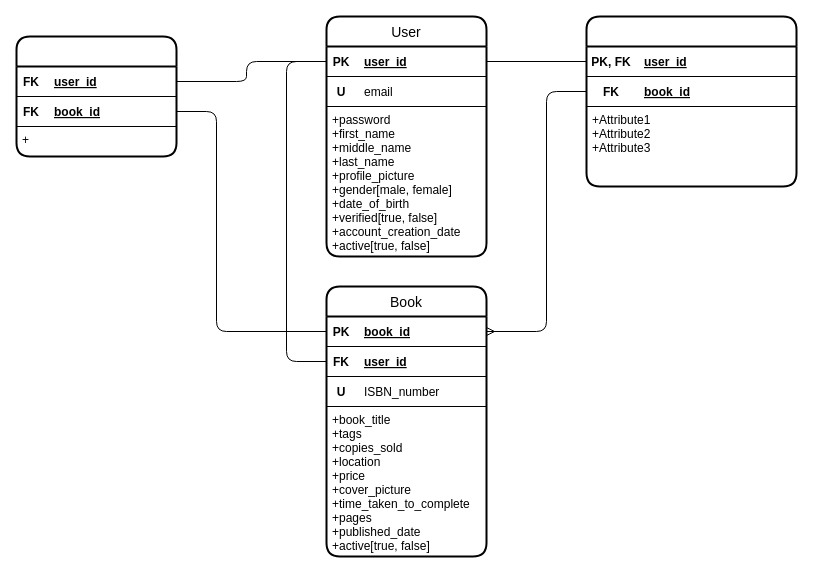
Some shapes in this 813 by 573 pixel diagram are drawn without their labels. The box of each missing label's shape, as (x1, y1, x2, y2) in pixels:
Library: (585, 15, 797, 187)
WishList: (15, 35, 177, 157)
